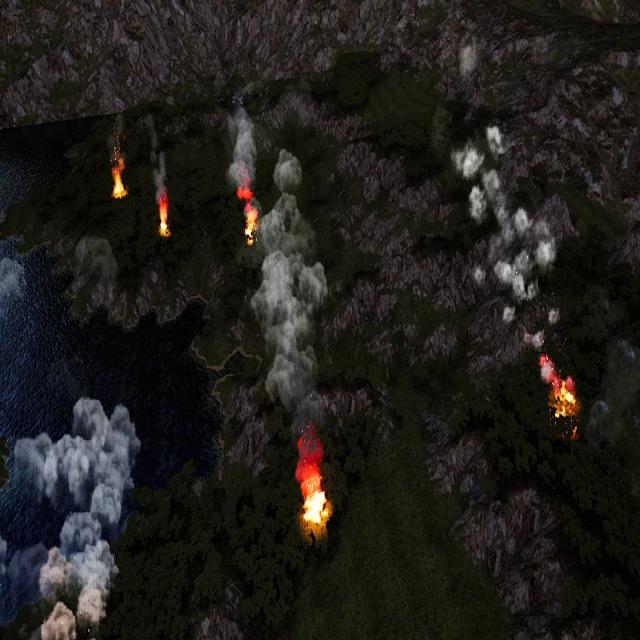fire: (293, 432, 327, 528), (302, 488, 330, 528), (111, 140, 125, 199), (555, 379, 576, 412), (244, 206, 258, 240), (159, 195, 171, 234)
smoke: (3, 392, 146, 634), (450, 125, 559, 388), (252, 147, 330, 491), (70, 235, 115, 324), (226, 103, 255, 196), (147, 114, 167, 199), (0, 254, 22, 302), (113, 114, 127, 162)
